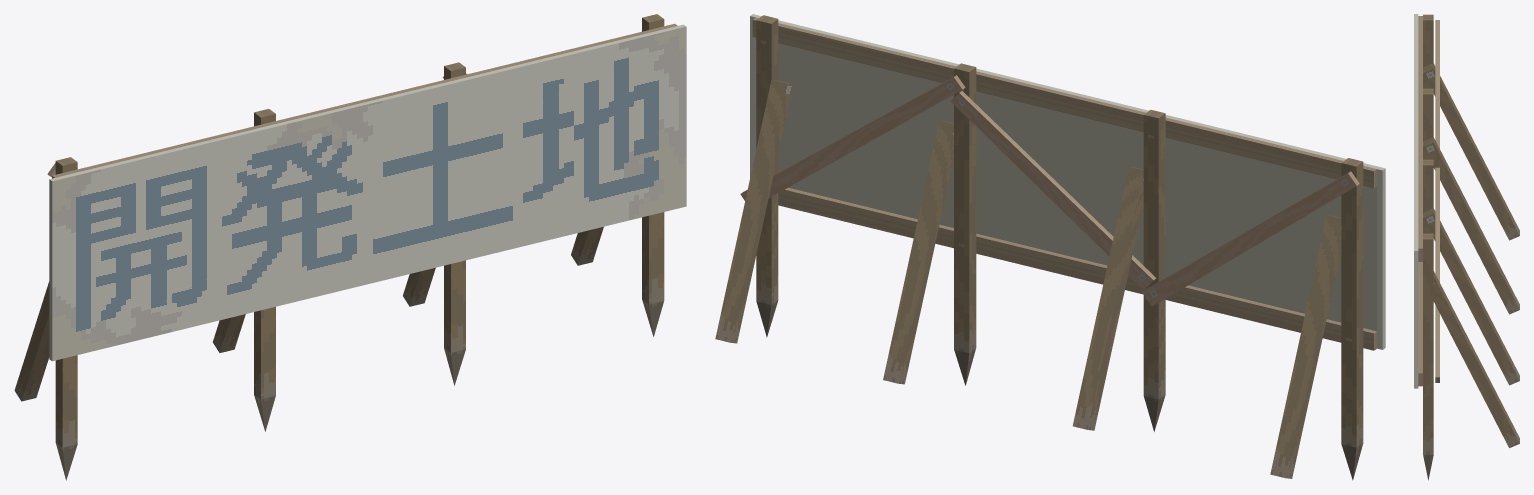
File: 054a_Under_Development.glb
The picture shows the model from 3 angles, left to right: view 1: azimuth 30°, elevation 25°; view 2: azimuth 150°, elevation 25°; view 3: azimuth 270°, elevation 25°; orthographic projection. The views are drawn at different scales.
Parts seen in each view (by area): view 1: part_0; view 2: part_0; view 3: part_0.
Part boxes in pixels (x1,y1,x2,y2): part_0: (14,14,686,480); part_0: (715,14,1385,480); part_0: (1414,14,1519,480).
Bounding box in the file's own units: 8.17 × 3.93 × 1.54.
Materials: 1 (1 with a texture image).
